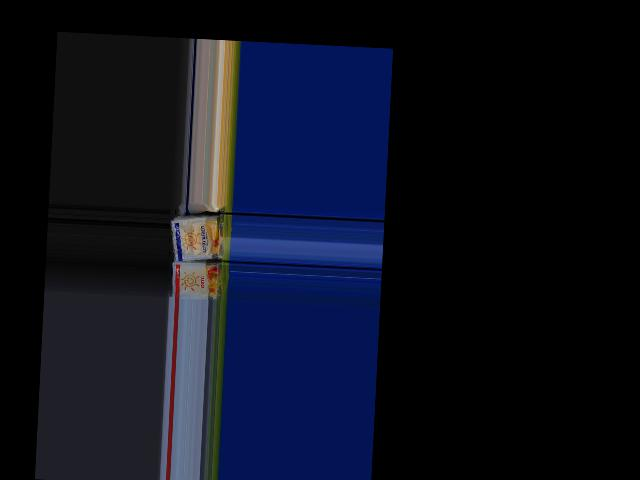cheese: (167, 261, 229, 302)
